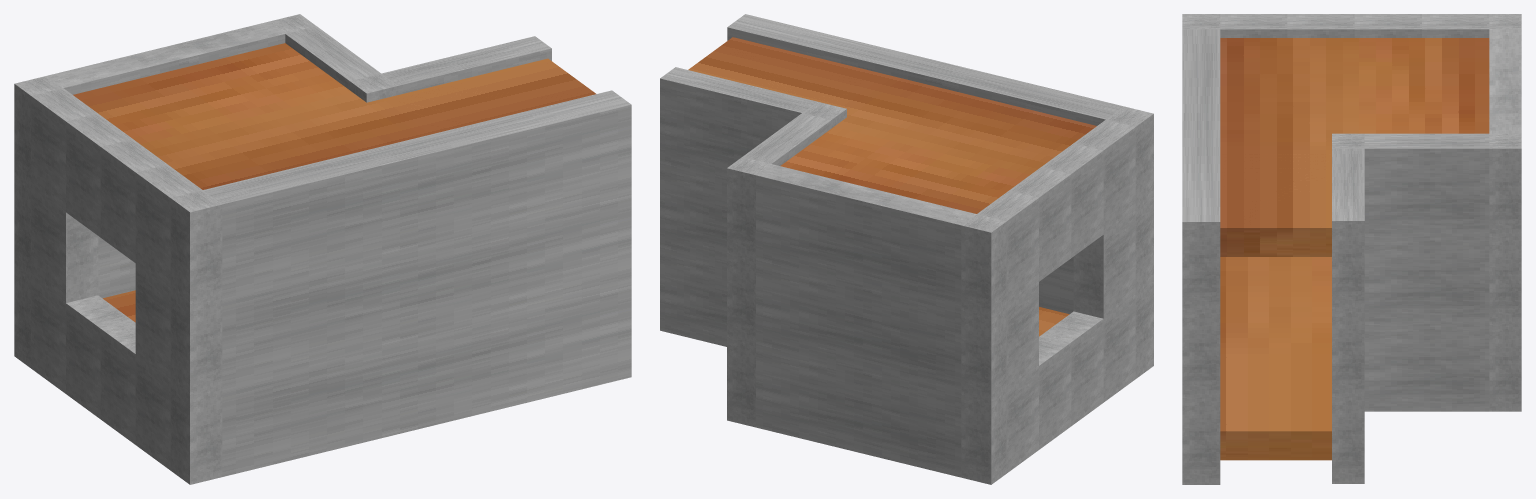
File: room.glb
3 renders of one model, left to right at view 1: azimuth 30°, elevation 25°; view 2: azimuth 150°, elevation 25°; view 3: azimuth 270°, elevation 25°, orthographic. The views are drawn at different scales.
Visible parts, largest first — view 1: Cube.001, Cube.002; view 2: Cube.001, Cube.002; view 3: Cube.001, Cube.002, Cube.
Boxes of the visible parts, box(x1,y1,x2,y2) form: Cube.001: box(14, 14, 631, 484); Cube.002: box(73, 43, 595, 189); Cube.001: box(660, 14, 1153, 484); Cube.002: box(688, 37, 1096, 213); Cube.001: box(1182, 14, 1521, 484); Cube.002: box(1220, 38, 1489, 256); Cube: box(1220, 257, 1331, 460).
Size of the model in its own units: 15.27 by 9.01 by 10.53.
2 materials, 2 textured.
